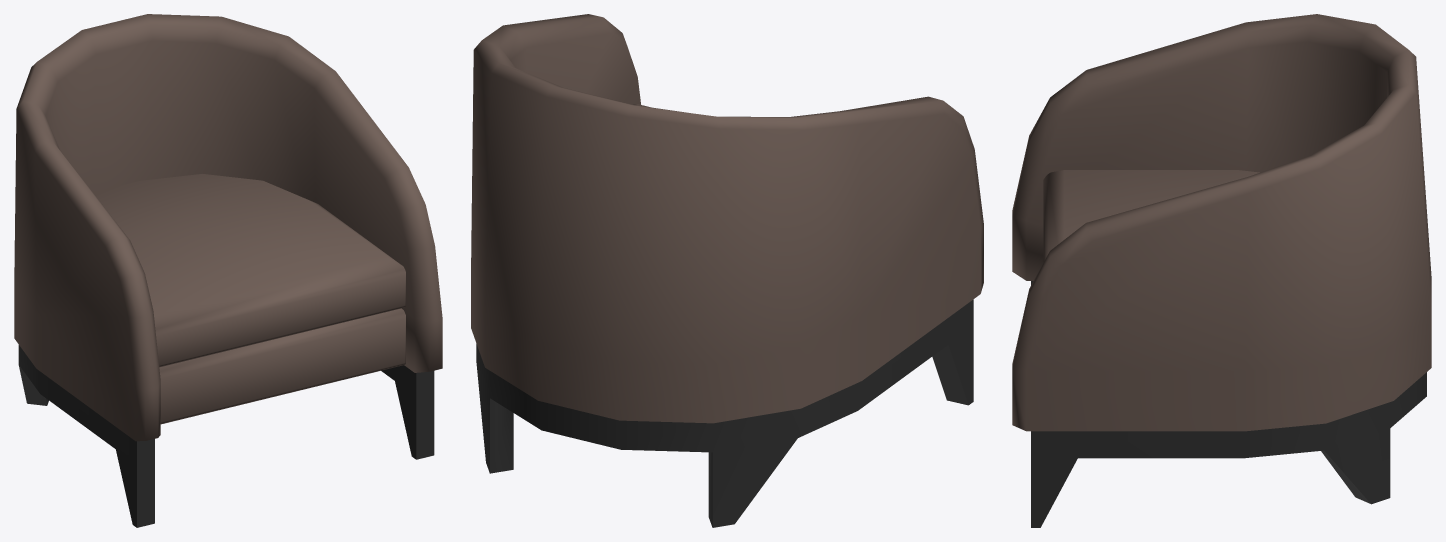
The model's file is armchair003.glb.
3 renders of one model, left to right at view 1: azimuth 30°, elevation 25°; view 2: azimuth 150°, elevation 25°; view 3: azimuth 270°, elevation 25°, orthographic. The views are drawn at different scales.
Parts seen in each view (by area): view 1: armchair.003; view 2: armchair.003; view 3: armchair.003.
Boxes of the visible parts, left/top/right/bottom form: armchair.003: left=14, top=14, right=442, bottom=527; armchair.003: left=471, top=14, right=983, bottom=527; armchair.003: left=1012, top=14, right=1431, bottom=527.
Bounding box in the file's own units: 0.864 × 0.9343 × 0.9327.
Materials: 1 (1 with a texture image).
